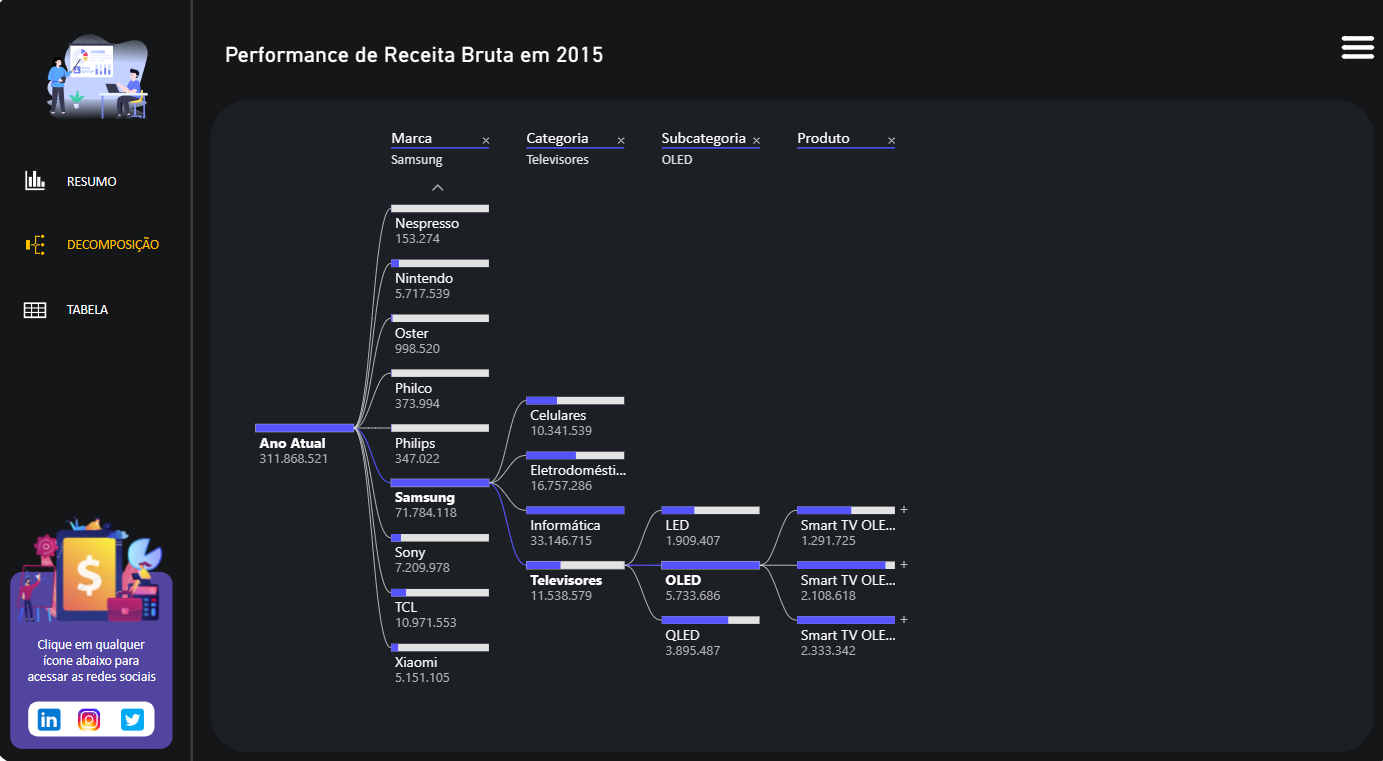

This screenshot's page, from the dashboard's own definition file:
{"tool":"powerbi","page":{"name":"Decomposição","canvas":[1920,1080],"ordinal":2},"visuals":[{"type":"decompositionTreeVisual","fields":{"Analyze":["medidas.Medida Dinamica - Valor"],"ExplainBy":["dim_marca.Marca","dim_categoria.Categoria","dim_subcategoria.Subcategoria","dim_produto.Descricao_Produto","dim_cidade.Cidade","dim_cidade.UF"]},"box":[335,185,1506.7,823.3],"z":0},{"type":"actionButton","box":[63.8,255.4,133,39.9],"z":1000},{"type":"actionButton","box":[63.8,430.9,133,30.6],"z":2000},{"type":"actionButton","box":[82.5,974.9,34.6,33.3],"z":3000},{"type":"actionButton","box":[135.7,974.9,39.9,33.3],"z":4000},{"type":"actionButton","box":[194.2,974.9,39.9,33.3],"z":5000},{"type":"cardVisual","fields":{"Data":["medidas.Titulo Dinamico"]},"box":[319.2,69.2,784.7,70.5],"z":6000},{"type":"lottieCE54BF3CBD11486EAE5DEA48995B34A4","fields":{"measure":["medidas.Titulo Dinamico"]},"box":[52,39.9,227,196],"z":7000},{"type":"actionButton","title":"Btn_Filtro_Off","box":[1813.6,69.8,54.9,46.5],"z":9000}]}

Visuals, with their boxes on the page's 1920x1080 design canvas (x1, y1, x2, y2). These are canvas units, not pixel positions in the 1383x761 screenshot, which may show the page scaled, cropped or inside an application window:
decompositionTreeVisual - medidas.Medida Dinamica - Valor x dim_marca.Marca: l=335, t=185, r=1842, b=1008
actionButton: l=64, t=255, r=197, b=295
actionButton: l=64, t=431, r=197, b=462
actionButton: l=82, t=975, r=117, b=1008
actionButton: l=136, t=975, r=176, b=1008
actionButton: l=194, t=975, r=234, b=1008
cardVisual - medidas.Titulo Dinamico: l=319, t=69, r=1104, b=140
lottieCE54BF3CBD11486EAE5DEA48995B34A4 - medidas.Titulo Dinamico: l=52, t=40, r=279, b=236
"Btn_Filtro_Off" actionButton: l=1814, t=70, r=1868, b=116
